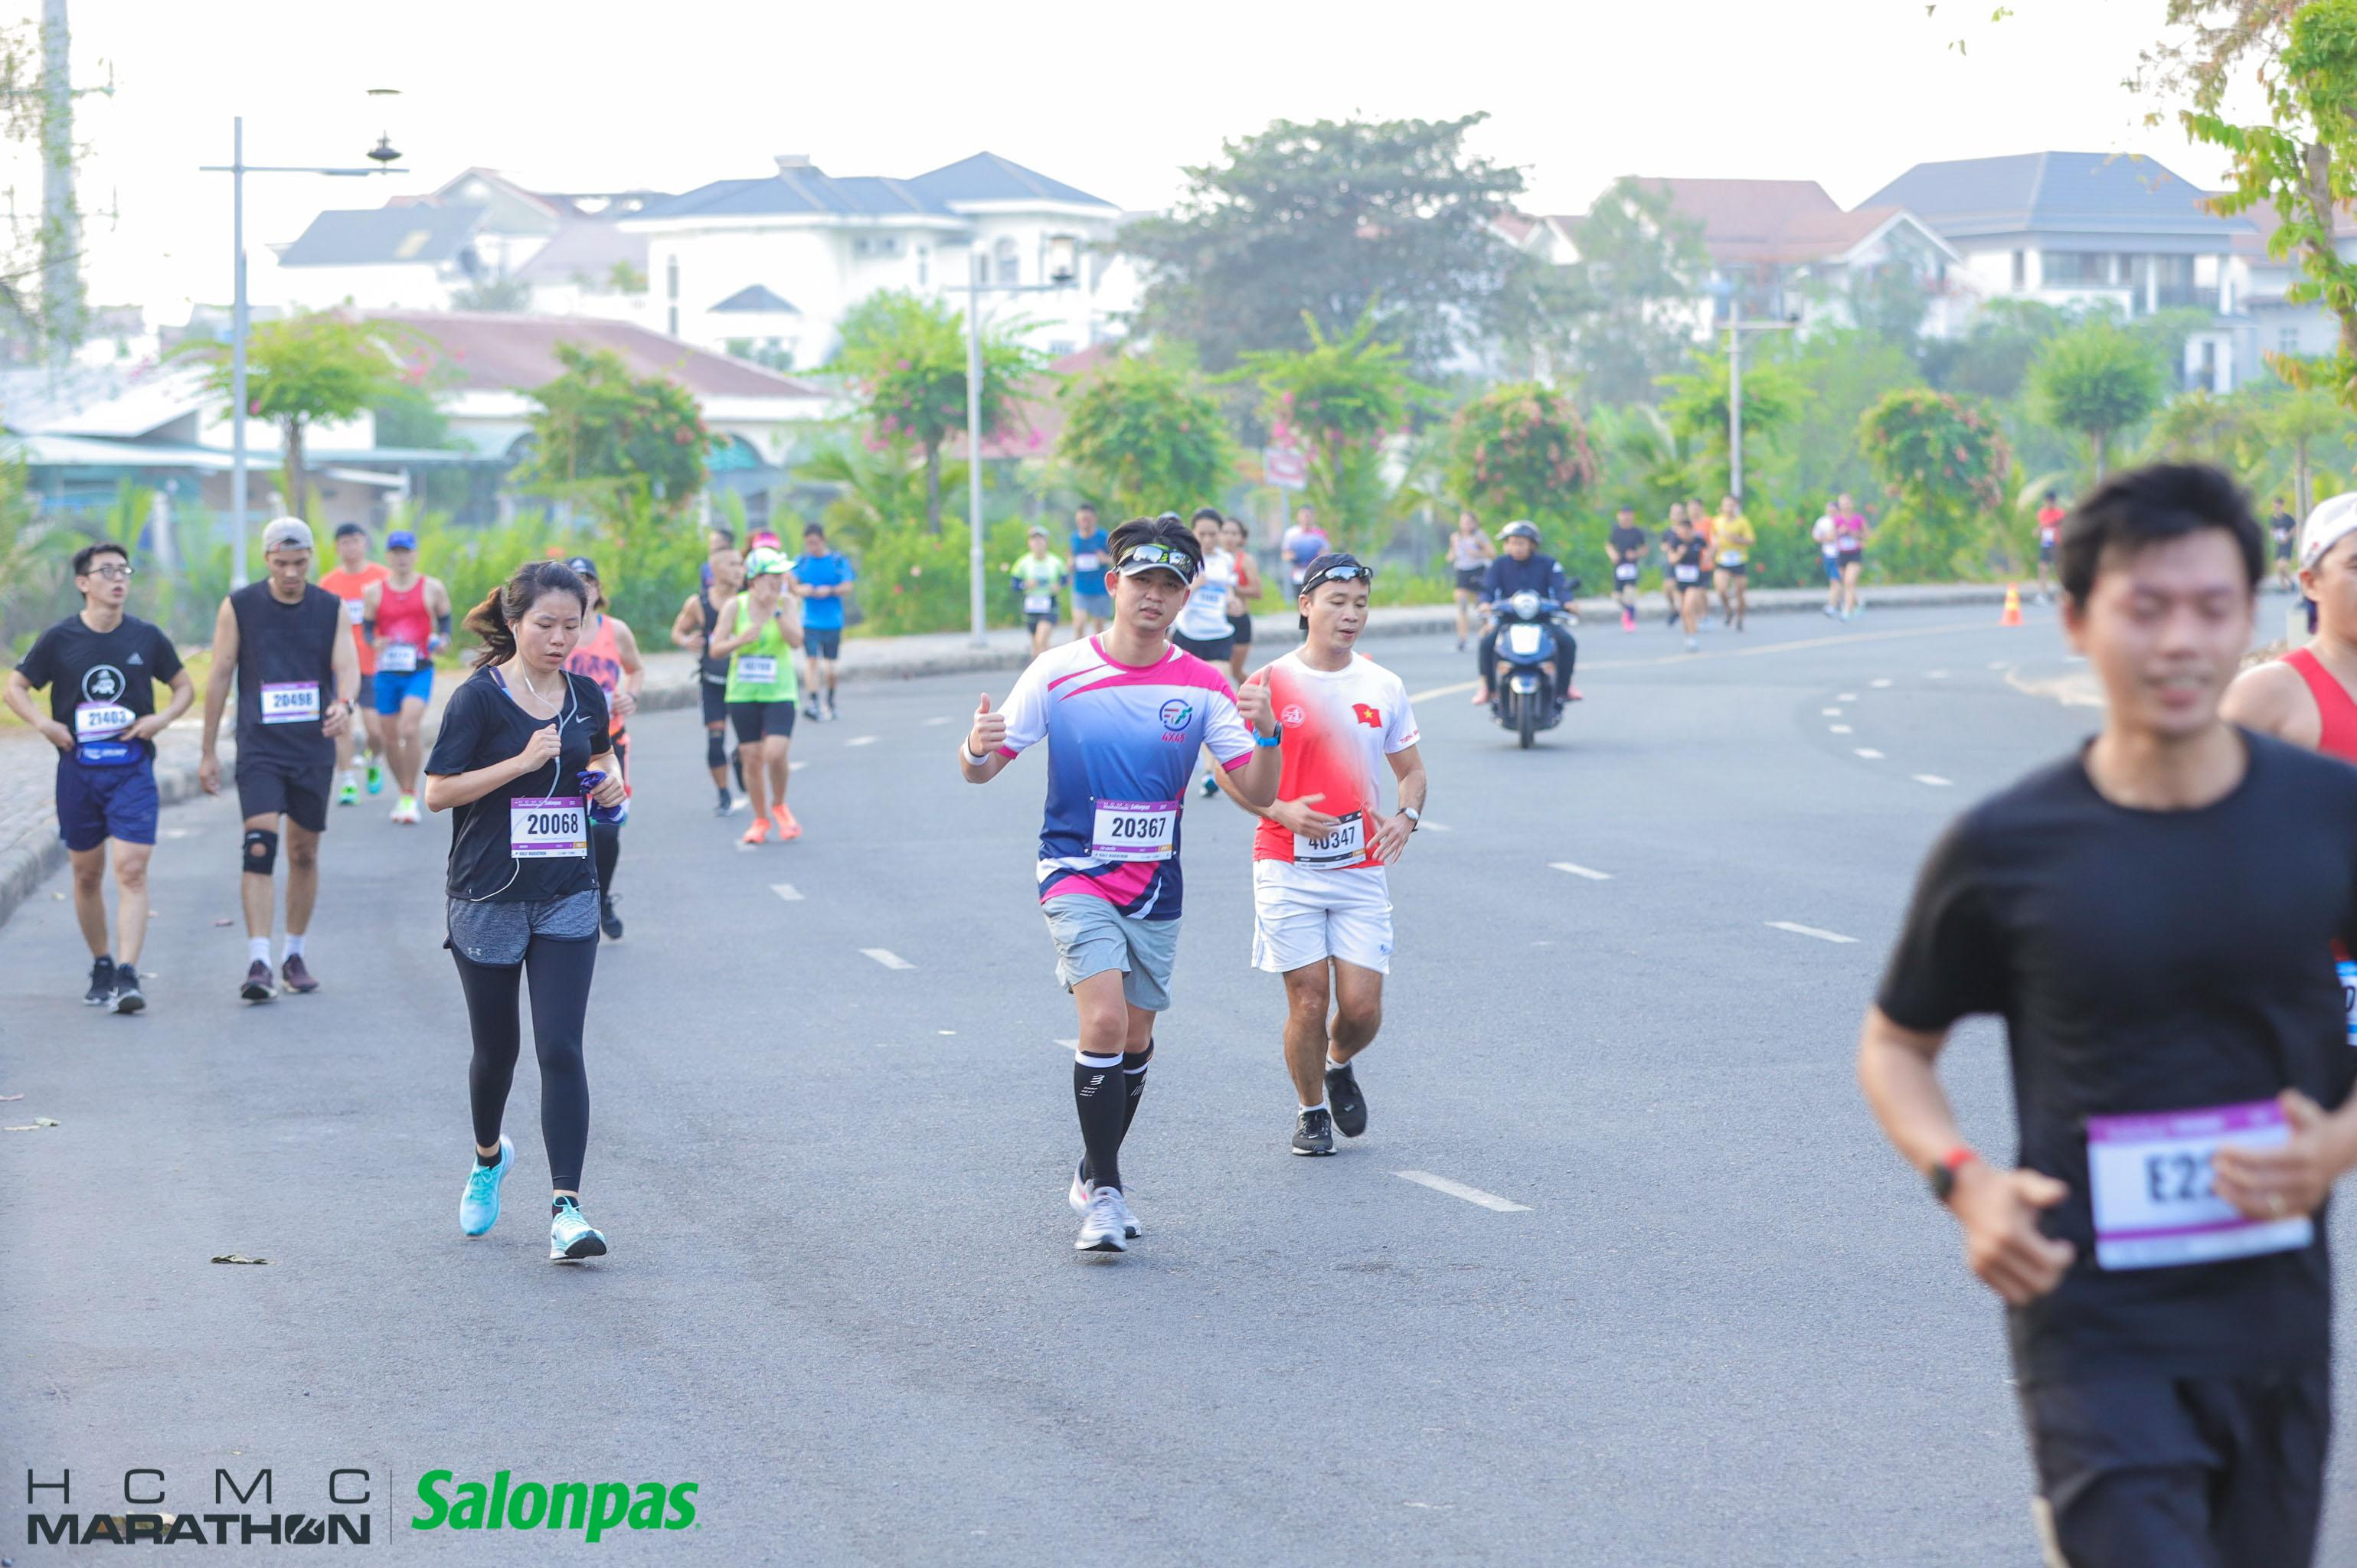bib: (2096, 1113, 2313, 1267), (1090, 803, 1181, 861), (513, 796, 586, 857), (1295, 817, 1372, 864), (261, 681, 324, 723), (73, 702, 135, 740), (737, 654, 773, 682), (381, 644, 418, 670), (1195, 586, 1227, 609)
